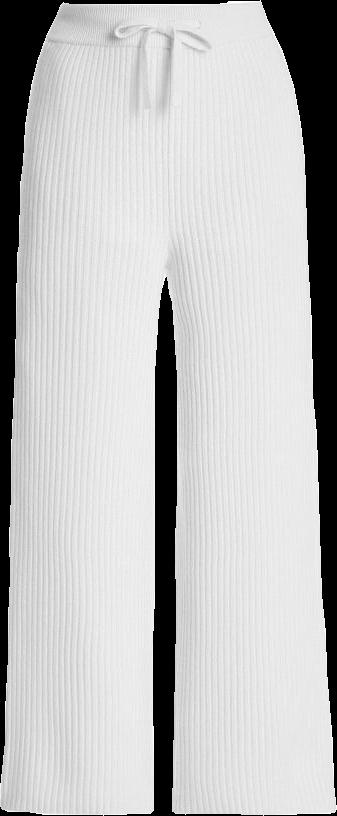Hemline: (0, 801, 155, 815), (171, 803, 336, 815)
Pantleg: (166, 2, 335, 813), (0, 3, 166, 813)
Waistline: (42, 33, 280, 52), (55, 0, 263, 13)
